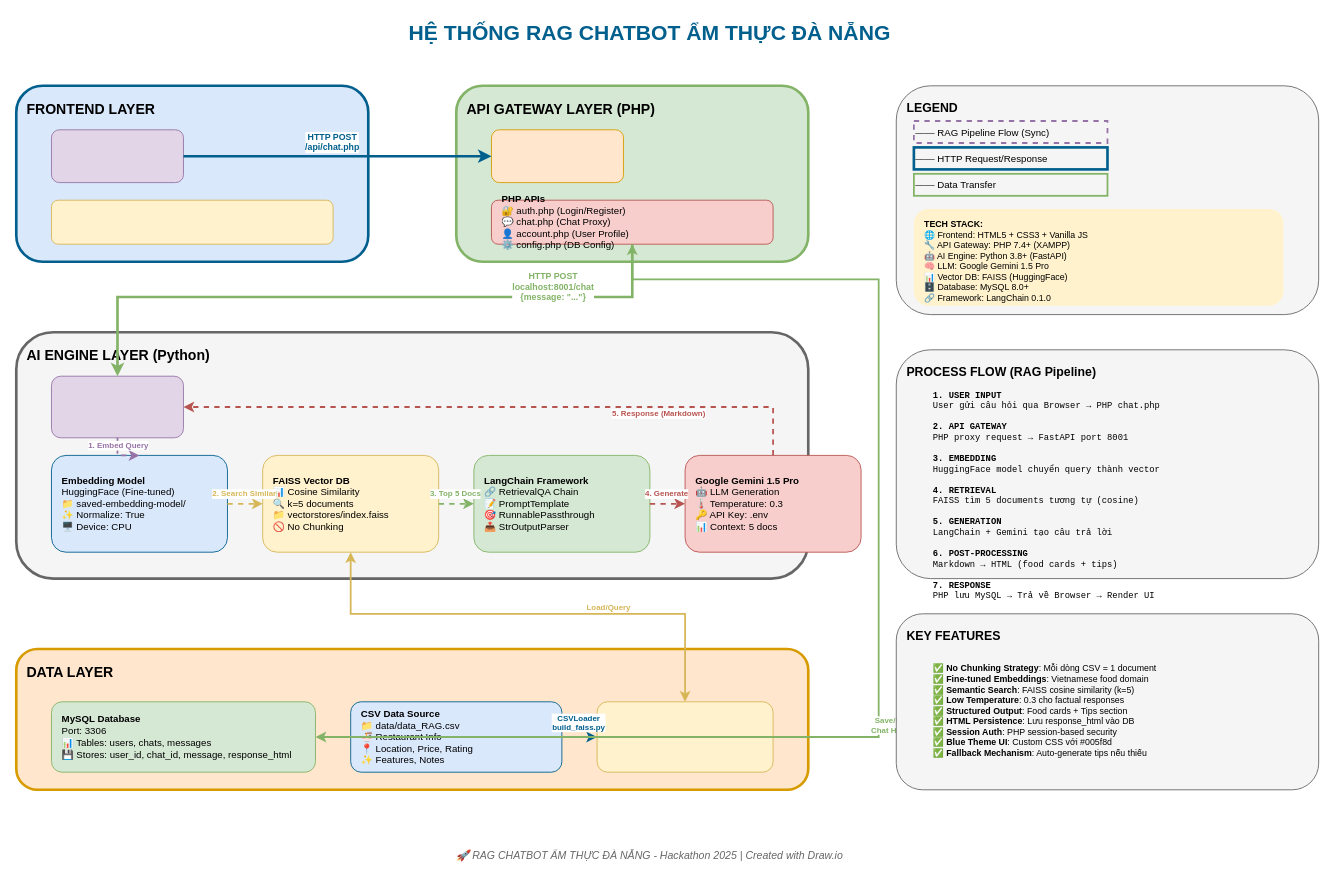
Image size: 1334x884. Some labels were removed from this diagram. The centre of each missing label's shape, as x and y in pixels:
FastAPI Server Port: 8001 Endpoint: /chat: the point at 117,406
UI Components 🎨 style.css 🎨 chatbot-response.css ⚡ app.js ⚡ chatbot-api.js: the point at 192,221
Vector Store 📊 FAISS Index 🔢 Embeddings ⚡ Fast Similarity Search: the point at 684,736
Web Browser HTML5 + CSS3 + Vanilla JS: the point at 117,156
XAMPP Server Apache 2.4 + PHP 7.4+ Port: 80: the point at 557,156
